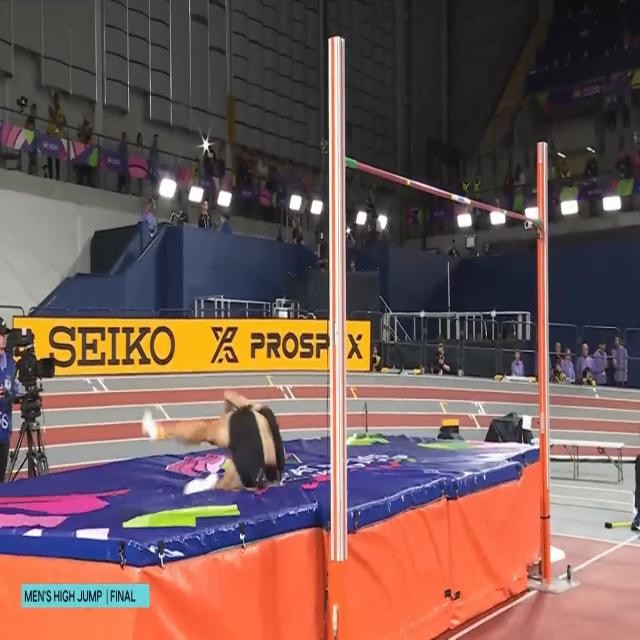land: (141, 390, 286, 489)
